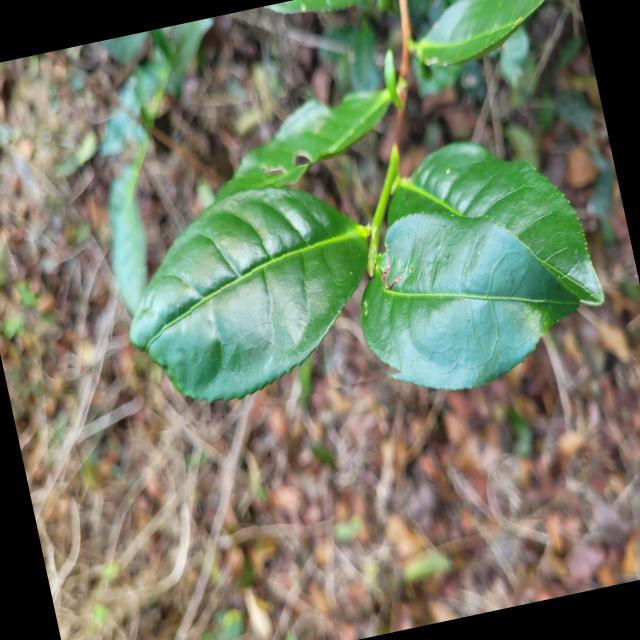Category D(7+ days, Not for Tea): (80, 152, 402, 438)
